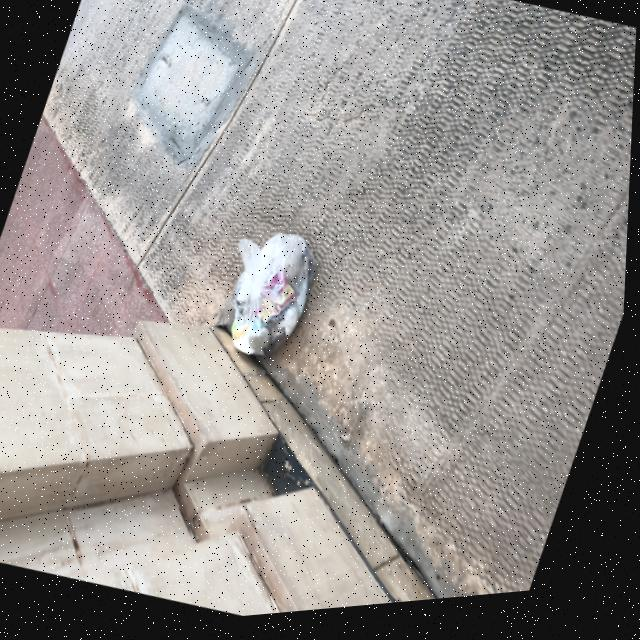Organic Waste -White Bag-: (209, 225, 333, 378)
